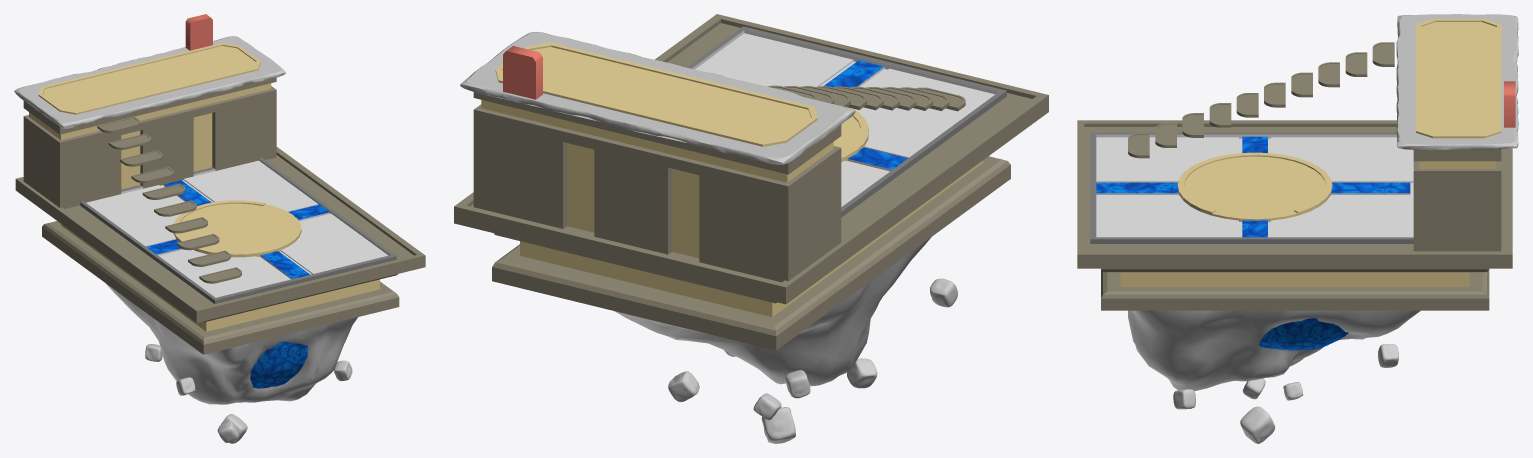
3 views of the same model, side by side, from view 1: azimuth 30°, elevation 25°; view 2: azimuth 150°, elevation 25°; view 3: azimuth 270°, elevation 25° (orthographic). The views are drawn at different scales.
Parts seen in each view (by area): view 1: Cube.231_dmg.020, Cube.231_dmg.001, Cube.231_dmg.025, Cube.287; view 2: Cube.231_dmg.020, Cube.231_dmg.001, Cube.231_dmg.025, Cube.287; view 3: Cube.231_dmg.020, Cube.231_dmg.001, Cube.231_dmg.025, Cube.287.
Part boxes in pixels (<box>): Cube.231_dmg.020: <box>15,147,425,443</box>; Cube.231_dmg.001: <box>14,36,285,208</box>; Cube.231_dmg.025: <box>97,116,241,283</box>; Cube.287: <box>185,14,212,50</box>; Cube.231_dmg.020: <box>454,14,1048,443</box>; Cube.231_dmg.001: <box>460,32,855,282</box>; Cube.231_dmg.025: <box>767,85,965,111</box>; Cube.287: <box>503,46,542,99</box>; Cube.231_dmg.020: <box>1077,120,1512,443</box>; Cube.231_dmg.001: <box>1396,14,1518,251</box>; Cube.231_dmg.025: <box>1128,42,1394,158</box>; Cube.287: <box>1504,81,1515,127</box>.
Bounding box in the file's own units: 1820 × 2505 × 2522.
